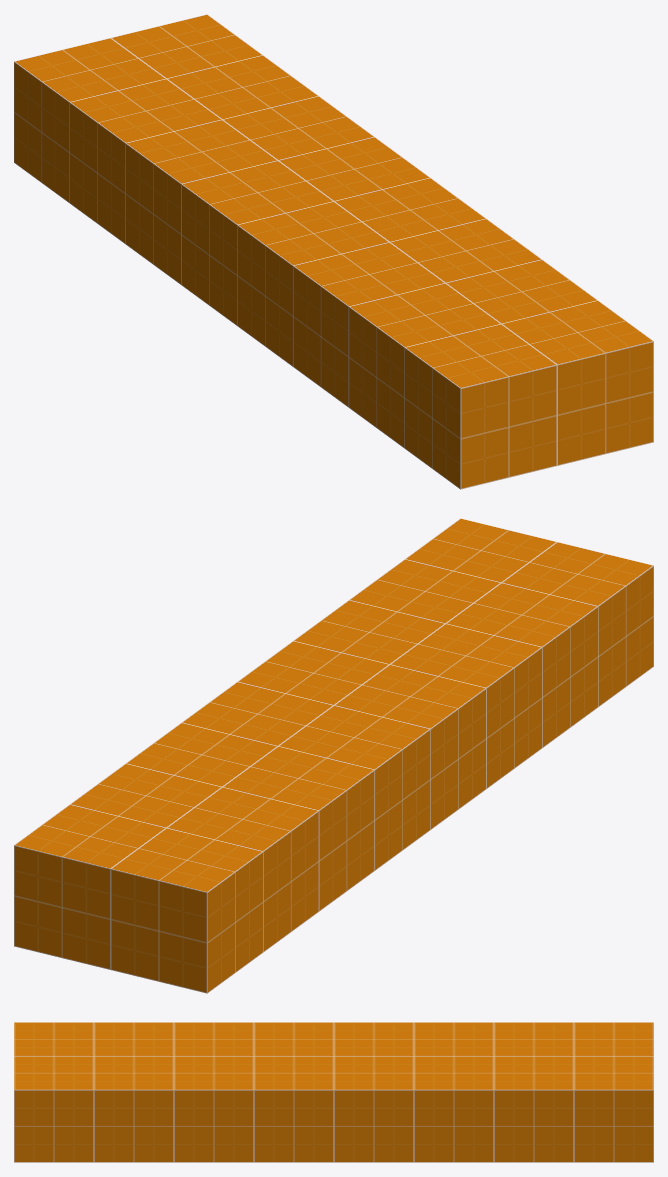
File: Block_2x8x1.obj
The picture shows the model from 3 angles, top to bottom: view 1: azimuth 30°, elevation 25°; view 2: azimuth 150°, elevation 25°; view 3: azimuth 270°, elevation 25°; orthographic projection. The views are drawn at different scales.
Visible parts, largest first — view 1: Block_2x8x1_Cube.168; view 2: Block_2x8x1_Cube.168; view 3: Block_2x8x1_Cube.168.
Boxes of the visible parts, x1,y1,x2,y2 form: Block_2x8x1_Cube.168: (14, 14, 653, 489); Block_2x8x1_Cube.168: (14, 518, 653, 993); Block_2x8x1_Cube.168: (14, 1022, 653, 1162).
Bounding box in the file's own units: 2 × 1 × 8.
Materials: 1 (1 with a texture image).
